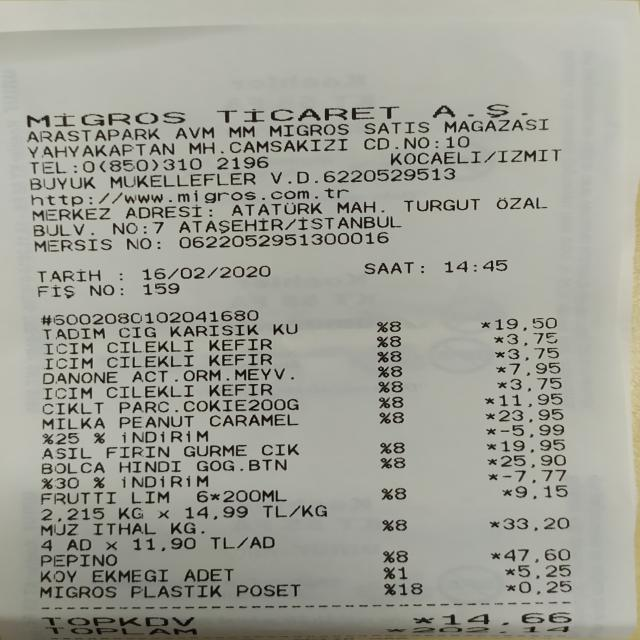text: (28, 188, 349, 206), (177, 215, 401, 233), (179, 231, 389, 249), (41, 310, 257, 326), (270, 167, 454, 184), (389, 148, 561, 166), (216, 106, 398, 122), (31, 157, 201, 174), (118, 398, 298, 414), (26, 110, 185, 128), (412, 612, 571, 628), (110, 172, 256, 188), (28, 143, 174, 158), (228, 138, 348, 154), (27, 128, 160, 142), (42, 617, 193, 629), (142, 266, 270, 280), (362, 135, 469, 150), (432, 103, 526, 118), (230, 201, 322, 216), (443, 119, 548, 132), (208, 413, 299, 427), (195, 489, 286, 503), (125, 205, 213, 219), (105, 384, 193, 398), (484, 408, 564, 423), (490, 548, 569, 563), (130, 585, 221, 598), (484, 393, 562, 408), (480, 317, 557, 332), (105, 355, 193, 368), (268, 123, 349, 137), (170, 324, 257, 337), (121, 475, 208, 488), (492, 329, 558, 346), (484, 424, 564, 438), (107, 340, 193, 353), (122, 430, 208, 443), (487, 454, 566, 468), (34, 238, 112, 252), (39, 553, 117, 567), (486, 439, 564, 453), (196, 459, 286, 471), (40, 491, 116, 505), (486, 470, 566, 483), (504, 580, 572, 595), (38, 585, 116, 598), (33, 208, 110, 221), (403, 198, 480, 211), (42, 371, 117, 384), (92, 569, 167, 582), (40, 507, 104, 522), (184, 505, 248, 520), (132, 537, 196, 552), (497, 377, 561, 392), (501, 485, 568, 499), (490, 518, 568, 530), (118, 416, 194, 428), (505, 564, 570, 578), (45, 628, 196, 634), (30, 176, 94, 190), (263, 504, 327, 518), (494, 347, 558, 361), (496, 362, 560, 376), (232, 368, 294, 382), (209, 536, 275, 549), (364, 121, 429, 134), (208, 338, 272, 351), (208, 353, 272, 366), (208, 383, 272, 396), (183, 444, 247, 457), (93, 522, 156, 535), (42, 402, 104, 415), (42, 417, 104, 430), (443, 260, 507, 272), (105, 446, 169, 458), (236, 584, 300, 596), (41, 462, 104, 474), (38, 270, 100, 282), (42, 328, 104, 340), (118, 460, 180, 472), (32, 224, 93, 236), (363, 262, 424, 274), (215, 156, 269, 169), (183, 568, 233, 582), (40, 447, 90, 460), (336, 200, 384, 213), (112, 222, 164, 234), (36, 523, 80, 537), (495, 197, 546, 209), (36, 284, 76, 299), (43, 387, 92, 399), (45, 357, 93, 369), (131, 369, 169, 384), (44, 343, 94, 354), (181, 369, 222, 382), (131, 490, 169, 504), (384, 582, 422, 596), (38, 570, 78, 583), (377, 363, 407, 379), (40, 478, 79, 490), (411, 626, 488, 632), (87, 284, 125, 296), (260, 444, 298, 456), (42, 432, 79, 444), (174, 127, 214, 138), (143, 282, 179, 294), (118, 327, 155, 338), (187, 142, 216, 156), (170, 522, 203, 534), (380, 518, 408, 532), (381, 550, 410, 563), (125, 238, 159, 249), (383, 566, 407, 580), (377, 380, 403, 392), (378, 396, 403, 408), (379, 412, 404, 424), (228, 126, 255, 137), (118, 507, 142, 519), (272, 323, 298, 334), (382, 488, 405, 500), (66, 539, 91, 550), (376, 321, 401, 332), (379, 442, 404, 453), (524, 626, 568, 632), (377, 336, 400, 347), (40, 539, 52, 551), (92, 477, 104, 488), (93, 433, 105, 443), (157, 510, 169, 519), (105, 542, 117, 550), (116, 270, 124, 281)
